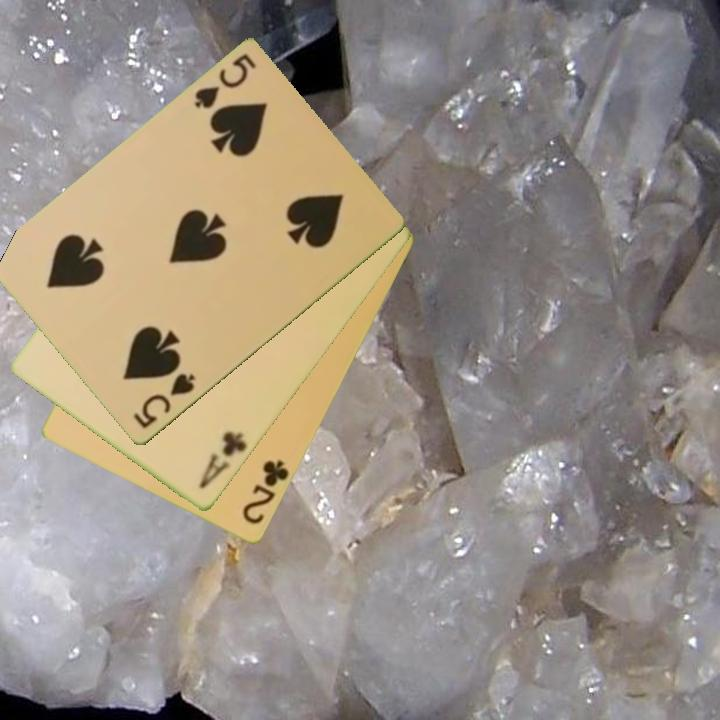2c: (239, 456, 293, 528)
5s: (190, 51, 260, 113), (130, 370, 199, 432)
Ac: (195, 428, 250, 493)
